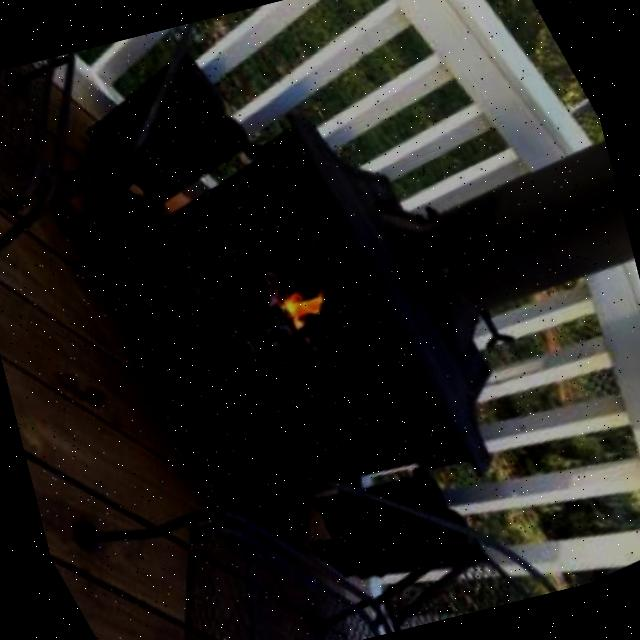fire: (244, 249, 348, 378)
